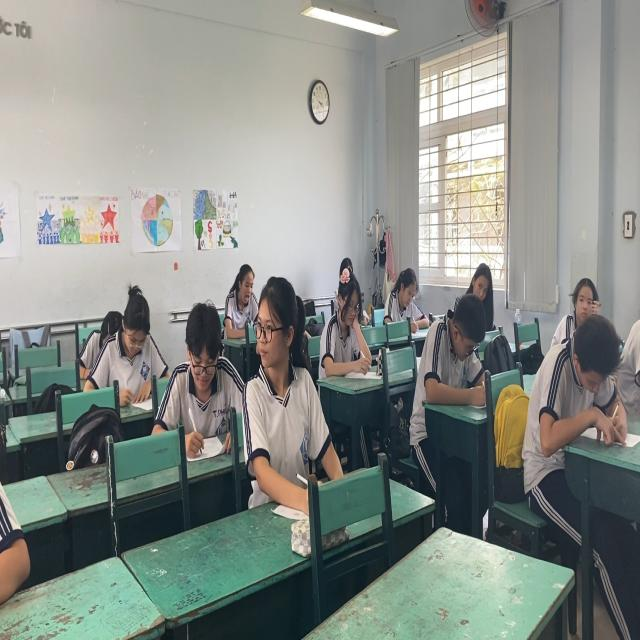cheating: (252, 286, 318, 454)
not_cheating: (167, 302, 242, 430), (540, 320, 618, 443), (99, 286, 159, 392), (433, 299, 498, 392), (332, 260, 371, 354), (223, 258, 266, 333), (381, 264, 431, 319), (566, 268, 608, 316), (462, 254, 493, 295)
